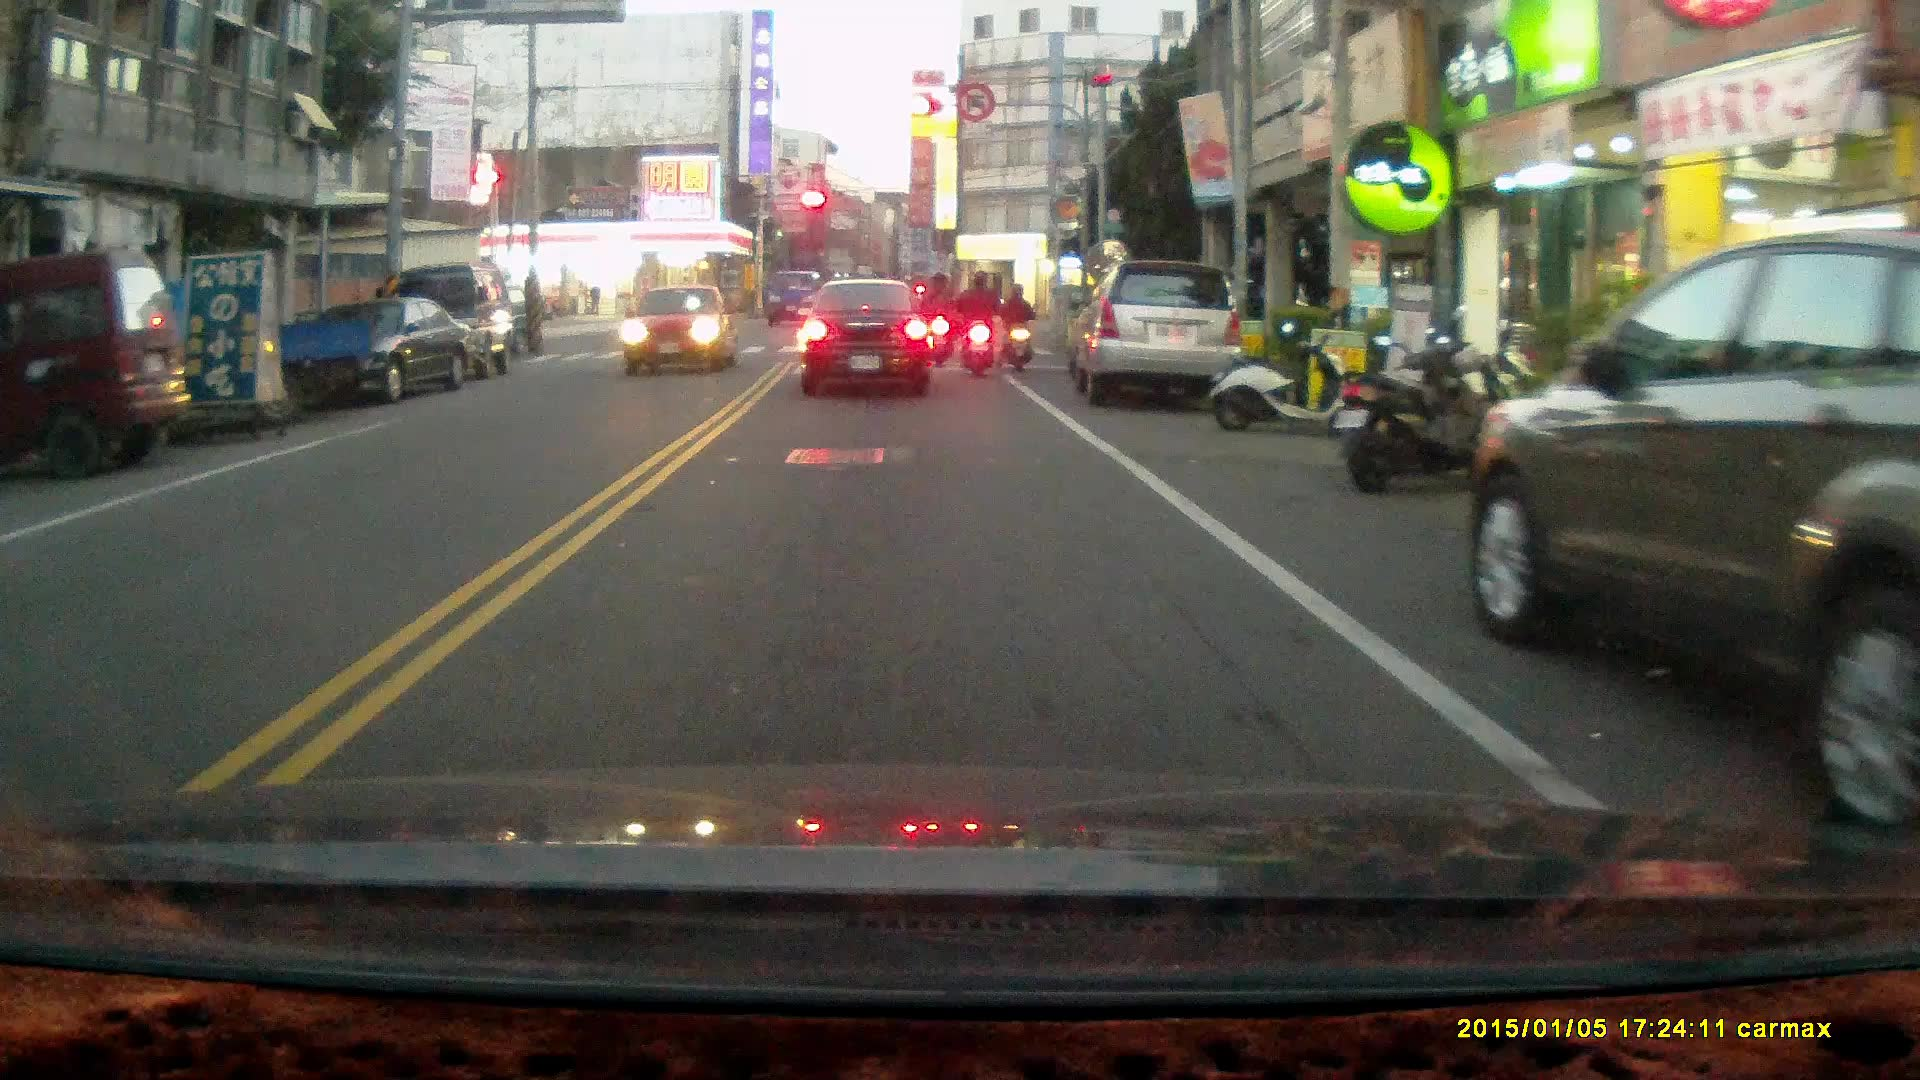rider: (954, 270, 1003, 379), (920, 270, 956, 367), (1000, 283, 1034, 374)
vehicle: (1469, 231, 1920, 842), (1, 250, 193, 479), (1066, 258, 1250, 415), (270, 293, 482, 405), (387, 259, 521, 384), (800, 276, 937, 398), (622, 284, 733, 376)
